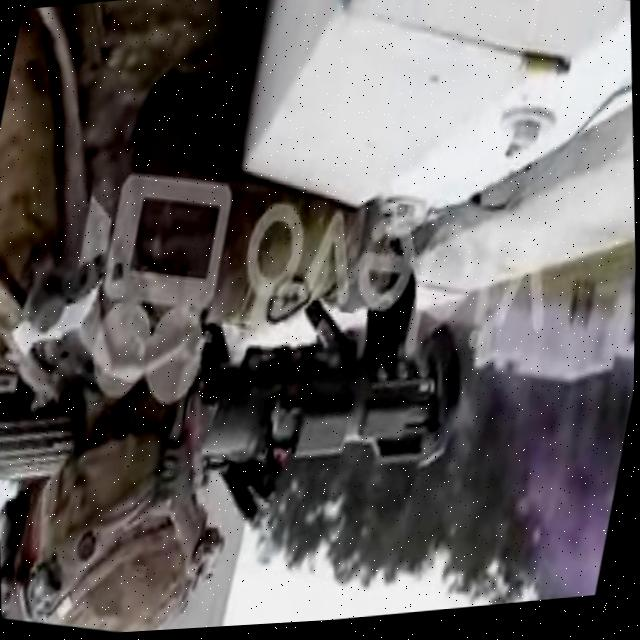rocket: (0, 231, 476, 589)
